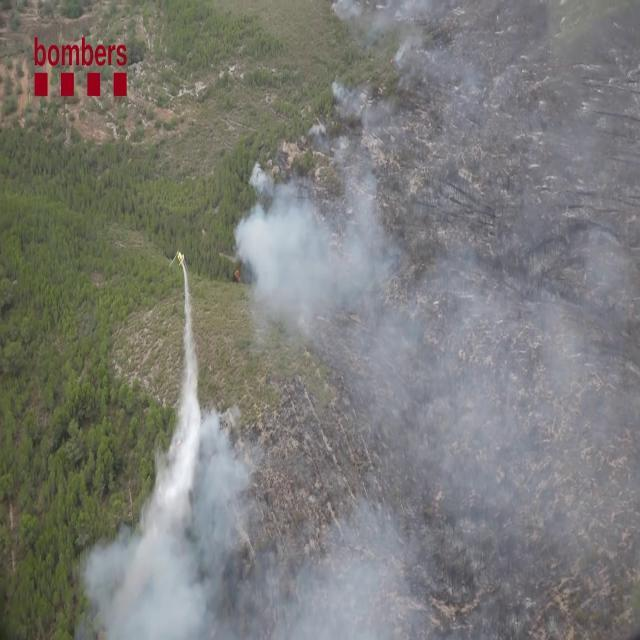Smoke: (53, 137, 640, 639)
